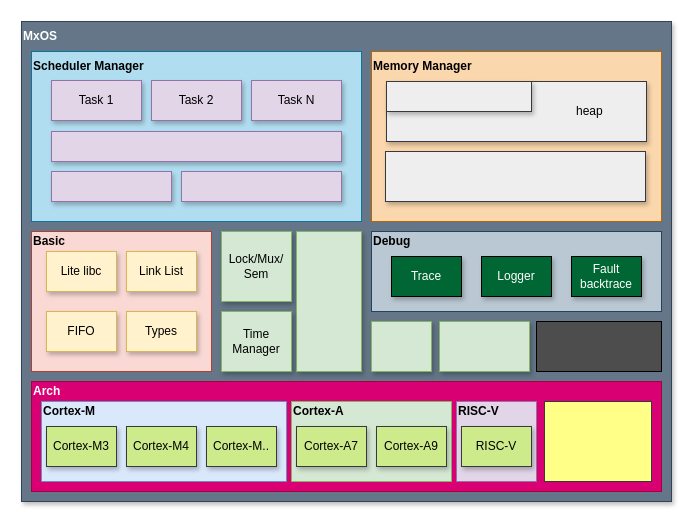
This 695x526 diagram has some shape labels left out. The shapes that lost their labels are listed below. From the top down, each one's centre as x and y in pixels, then its label:
the point at 460,97: memory pool
the point at 197,147: Priority
the point at 112,187: Context Switch
the point at 262,187: Task State Machine
the point at 516,177: memory recycle
the point at 330,302: Driver Framework
the point at 402,347: IPC
the point at 485,347: Interrupt Manager
the point at 599,346: Shell
the point at 598,441: Others
